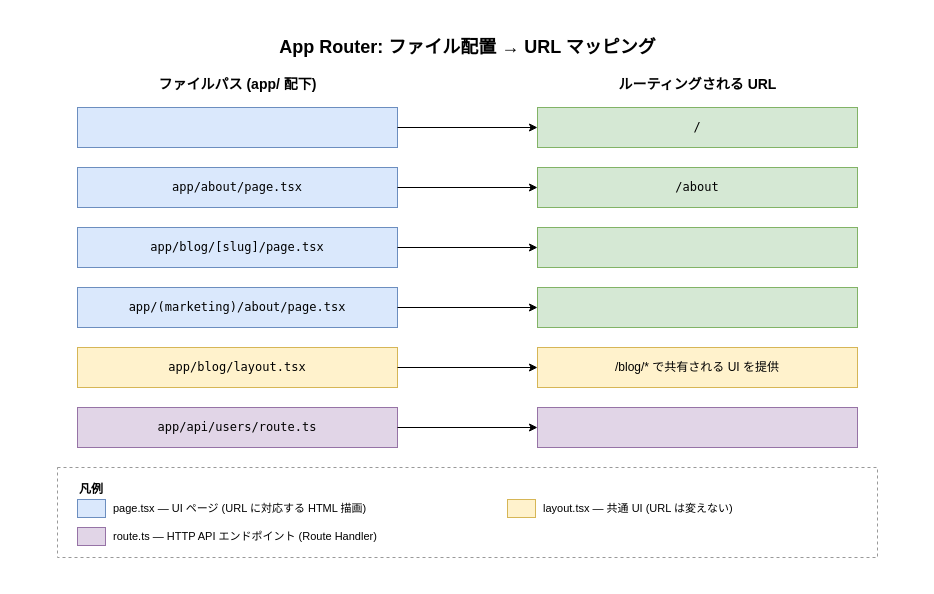
The diagram is 934 pixels wide and 594 high, and some of its shapes have lost their labels. The centre of each missing label's shape, as x and y in pixels:
/about (ルートグループは URL に出ない): point (697, 307)
/blog/:slug (動的セグメント): point (697, 247)
app/page.tsx: point (237, 127)
GET/POST /api/users (Route Handler): point (697, 427)
